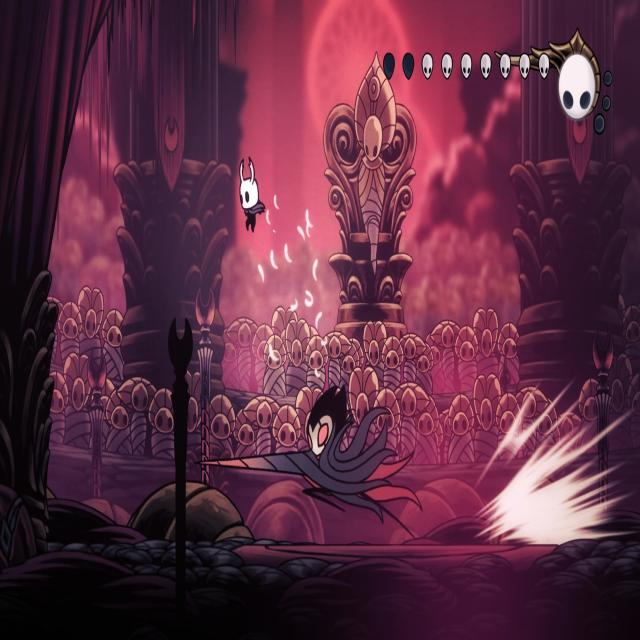Dive Dash: (194, 370, 426, 542)
Player: (236, 152, 266, 235)
